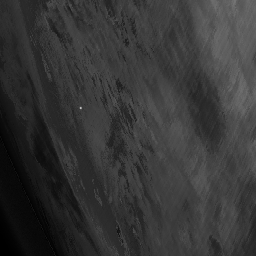Target: (78, 105, 84, 110)
